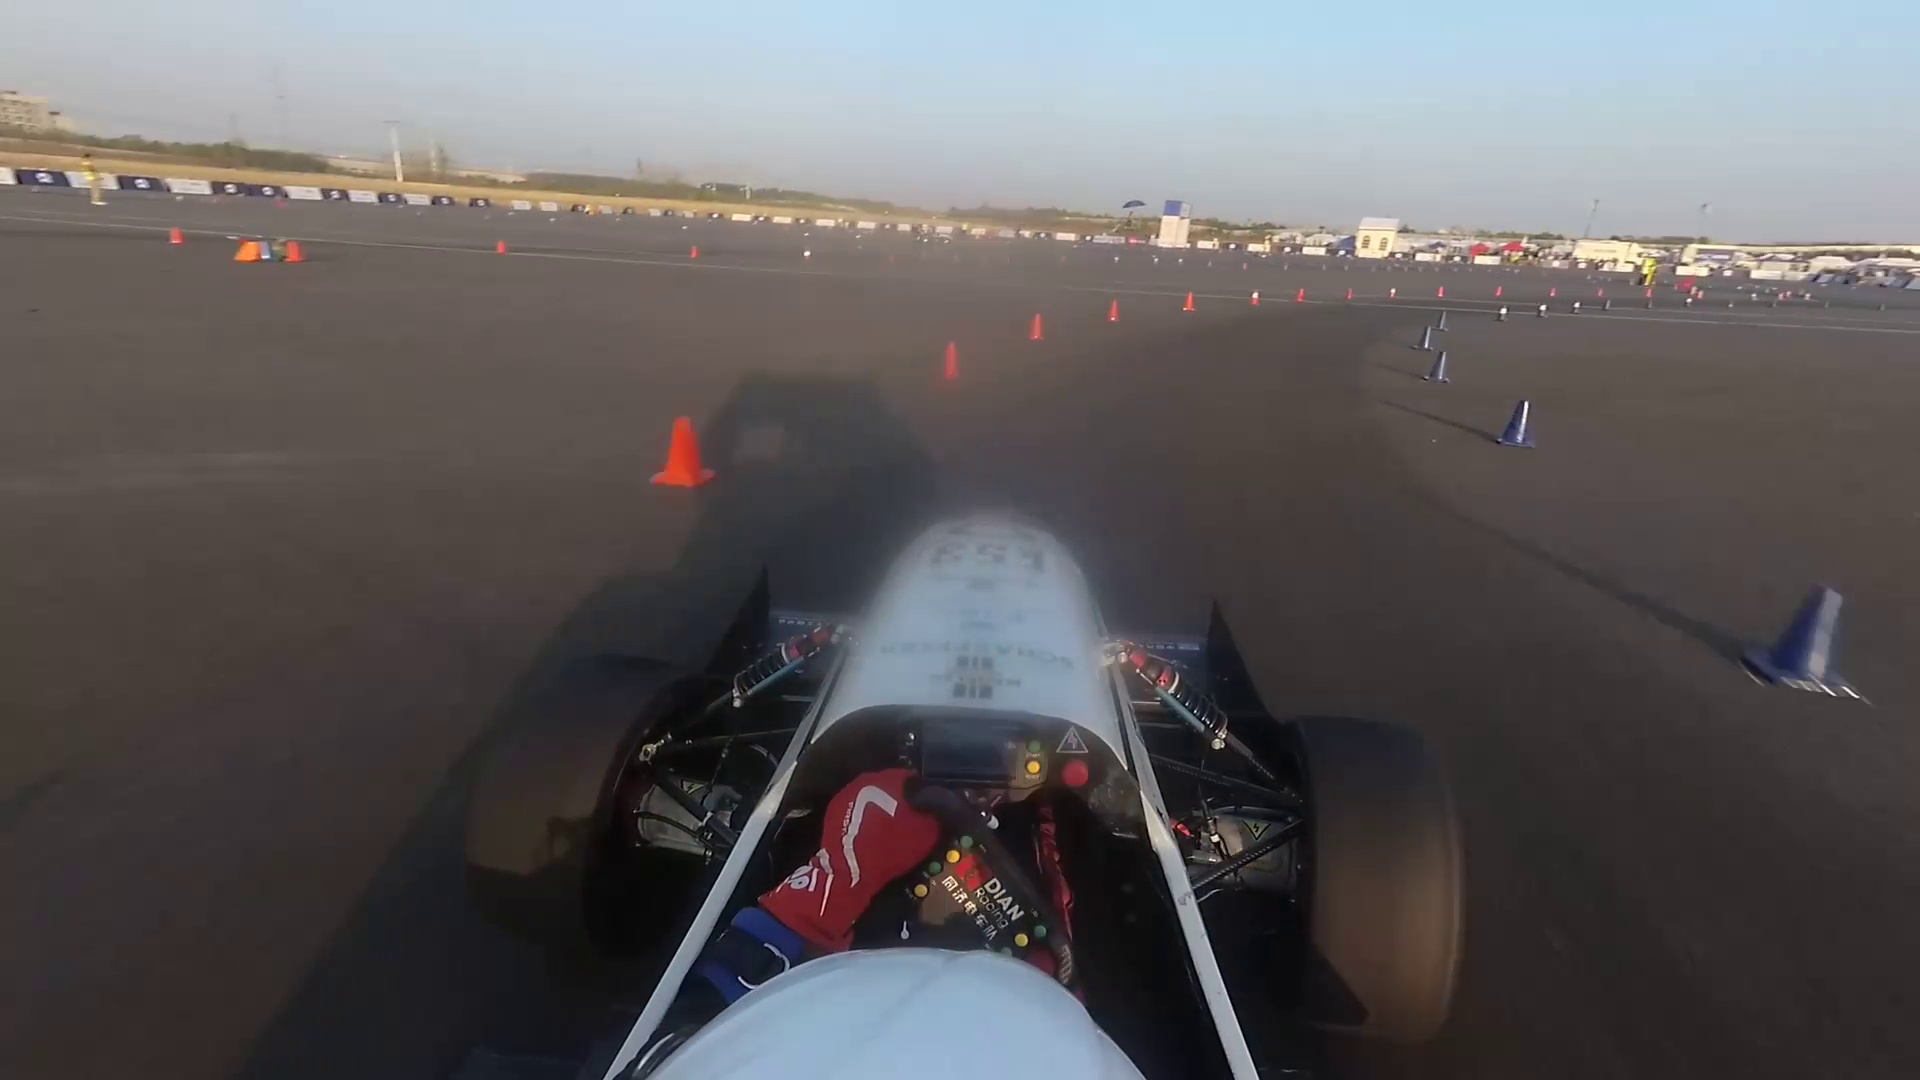blue_cone: (1755, 584, 1855, 709), (1497, 401, 1536, 454), (1425, 353, 1451, 382), (1414, 328, 1433, 351), (1435, 311, 1451, 332), (1571, 301, 1582, 319), (1495, 306, 1507, 320), (1538, 305, 1548, 316), (1725, 299, 1735, 310), (1602, 301, 1610, 311), (1647, 298, 1652, 309), (1687, 297, 1692, 307)
red_cone: (942, 343, 961, 381), (1026, 313, 1046, 342), (1106, 299, 1122, 323), (1183, 291, 1196, 313), (1247, 290, 1262, 306), (1295, 287, 1305, 303), (1436, 286, 1447, 299), (1389, 287, 1396, 301), (1346, 287, 1354, 301), (1494, 287, 1503, 295), (1646, 289, 1652, 298), (1597, 289, 1604, 298), (1549, 287, 1555, 295)
